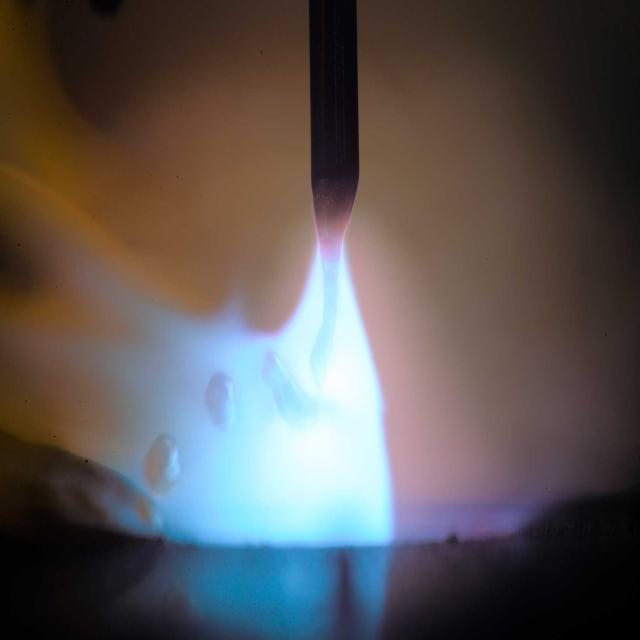welding: (148, 250, 395, 539)
